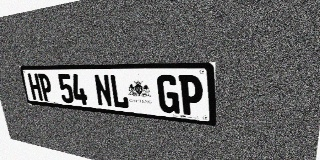4: (70, 74, 88, 105)
5: (57, 74, 75, 104)
G: (157, 75, 180, 114)
H: (27, 74, 43, 101)
L: (109, 74, 130, 109)
N: (93, 74, 113, 107)
P: (179, 75, 203, 116), (38, 74, 54, 102)
